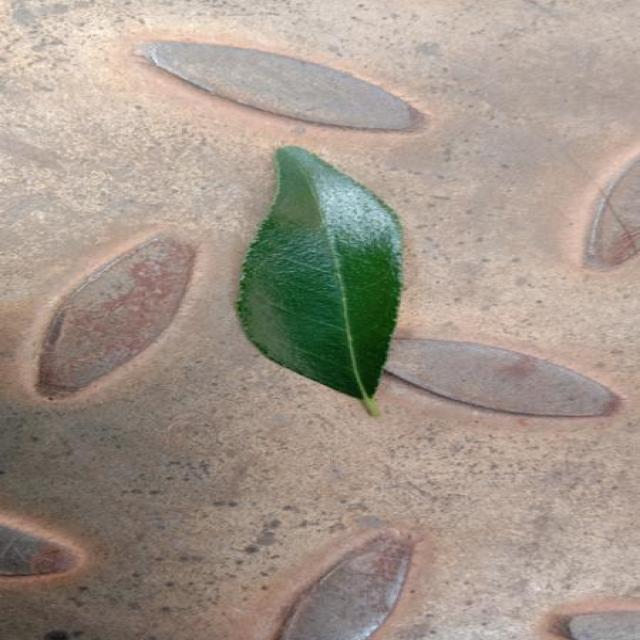curry: (238, 146, 402, 414)
